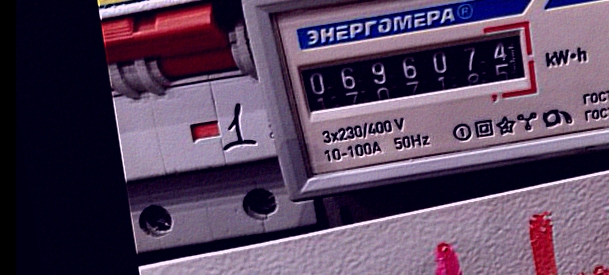0: (306, 69, 329, 97), (431, 48, 451, 76)
4: (491, 37, 511, 64)
5: (495, 61, 512, 81)
6: (338, 62, 361, 92), (400, 54, 420, 81)
7: (460, 44, 482, 72)
9: (368, 59, 391, 87)
screen: (285, 15, 546, 133)
